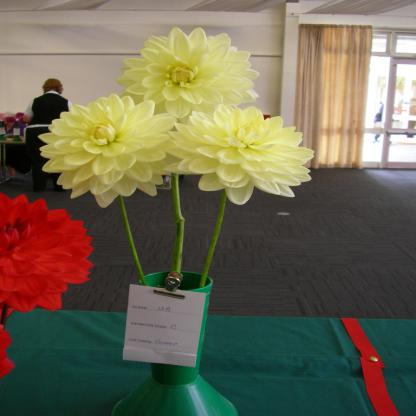vase: (112, 272, 238, 416)
